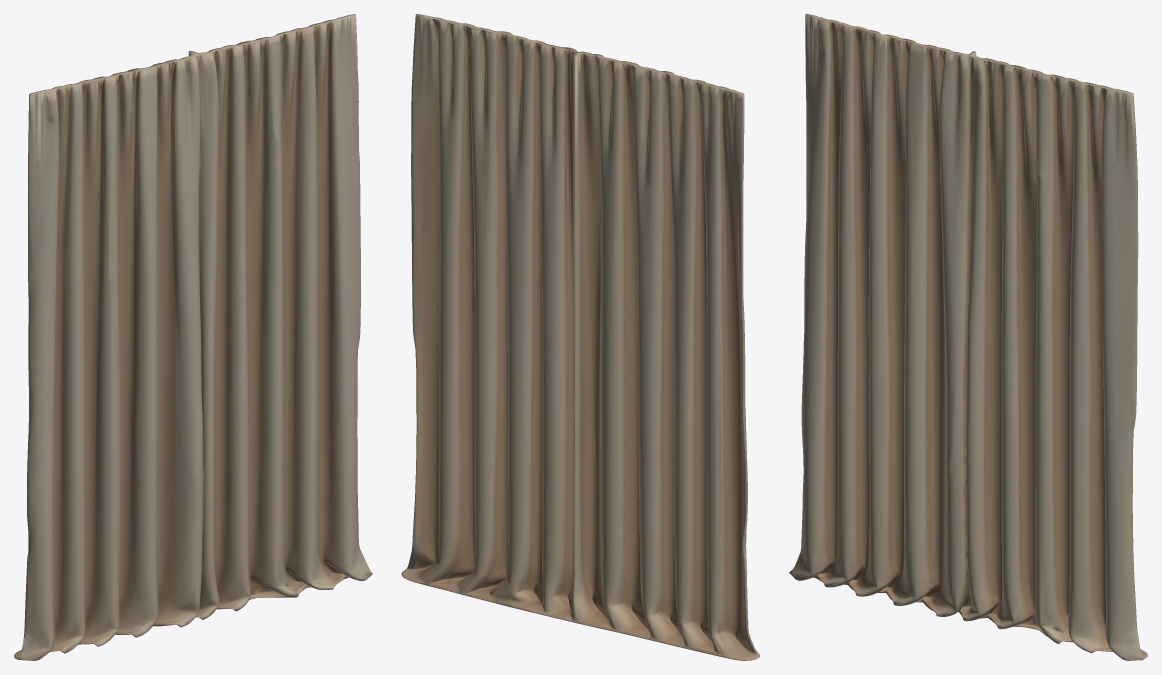
3 renders of one model, left to right at view 1: azimuth 30°, elevation 25°; view 2: azimuth 150°, elevation 25°; view 3: azimuth 330°, elevation 25°, orthographic.
Visible parts, largest first — view 1: material; view 2: material; view 3: material.
Boxes of the visible parts, bbox=[...] form: material: bbox=[14, 14, 372, 660]; material: bbox=[401, 14, 760, 660]; material: bbox=[789, 14, 1147, 660].
Bounding box in the file's own units: 0.6652 × 1.01 × 0.0678.
1 material, 1 textured.
